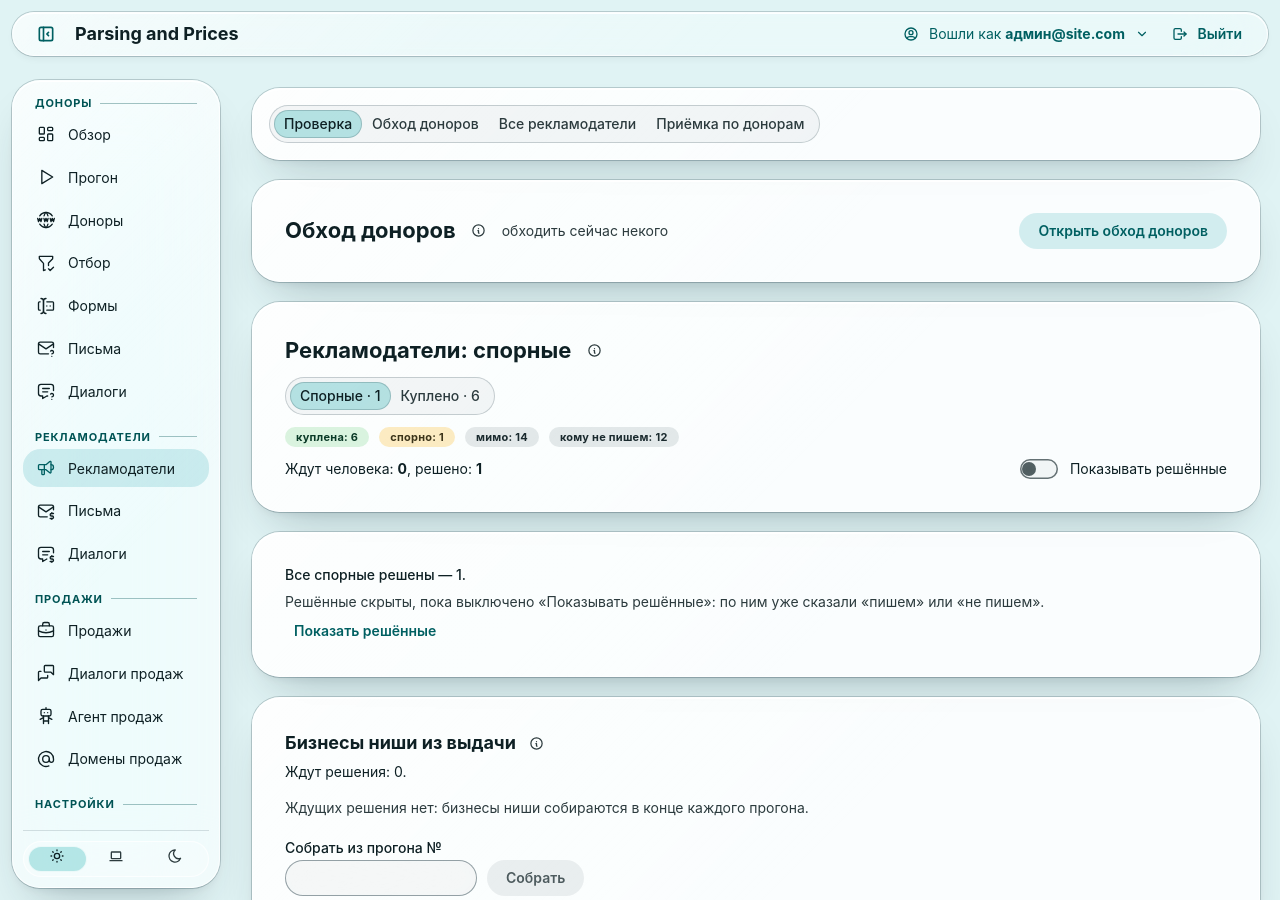
Test: числа и текст сходятся › развёрнутые решённые сворачиваются там же, где развернули
Click the button "Показать решённые": x=365, y=631 [285,618,445,644]
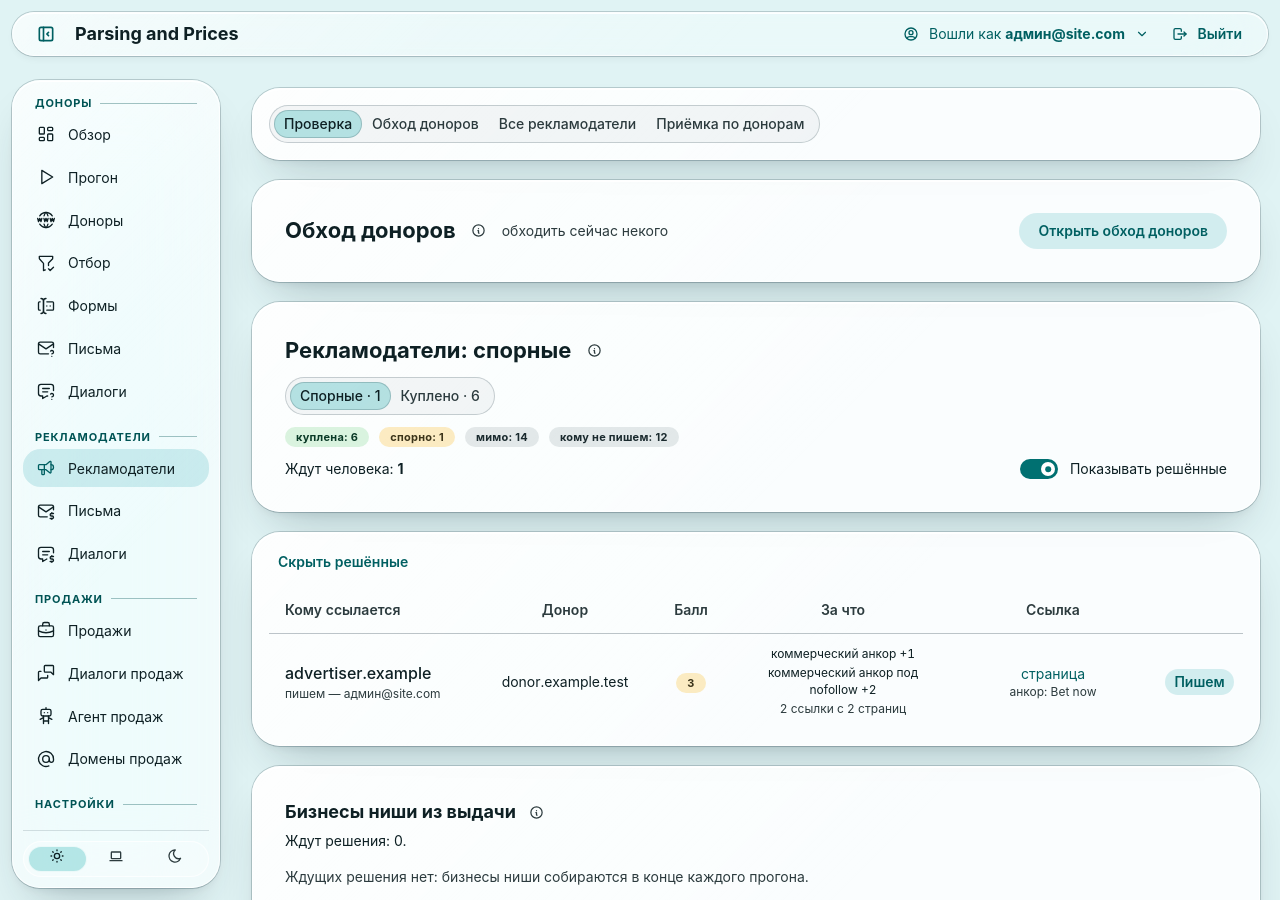
Click the button "Скрыть решённые": x=343, y=562 [269,550,417,576]
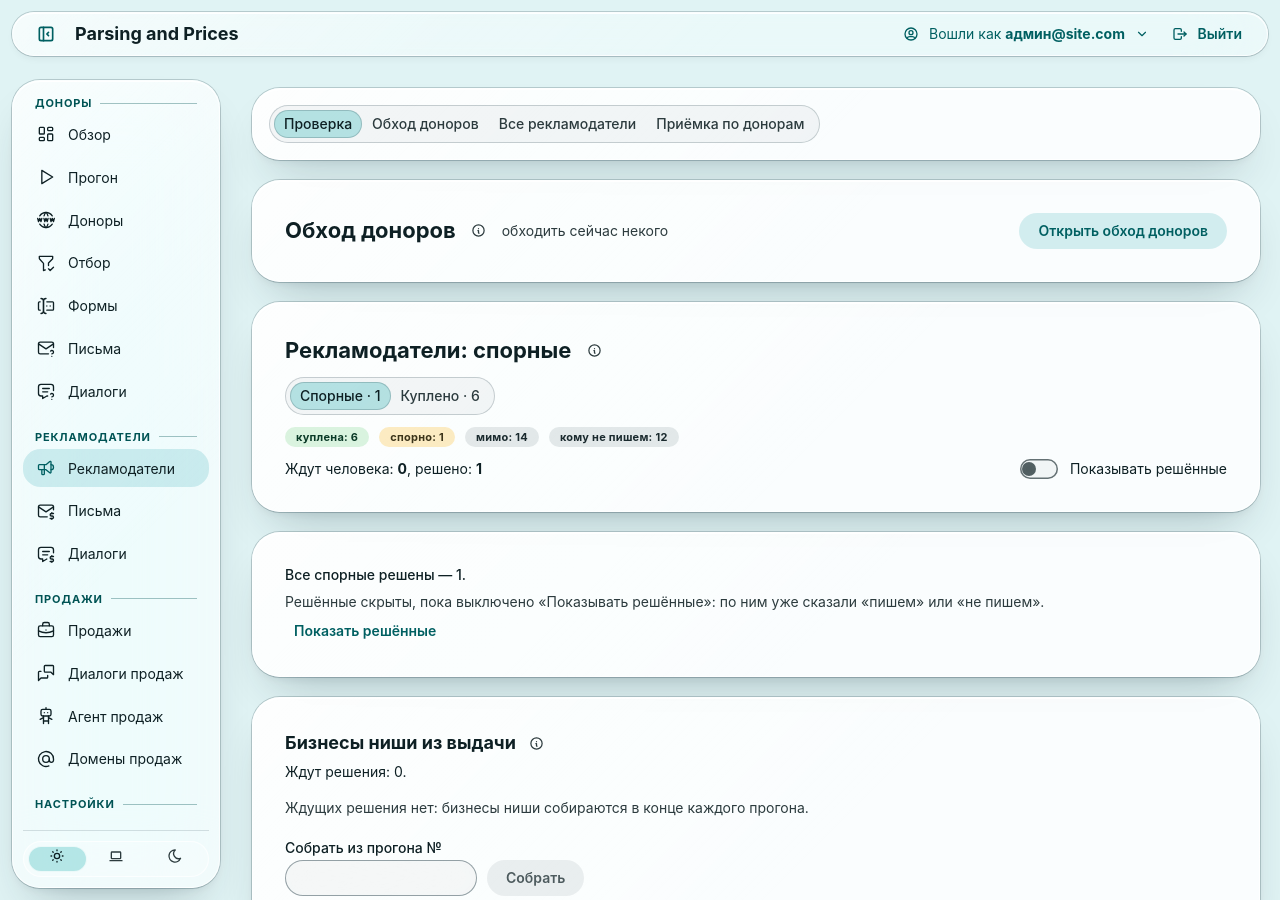
Expected: the text "Все спорные решены — 1." is shown, [285,566,466,586]
Expected: the link "advertiser.example" is gone
Expected: the switch labelled "Показывать решённые" is not checked, [1020,459,1227,479]
